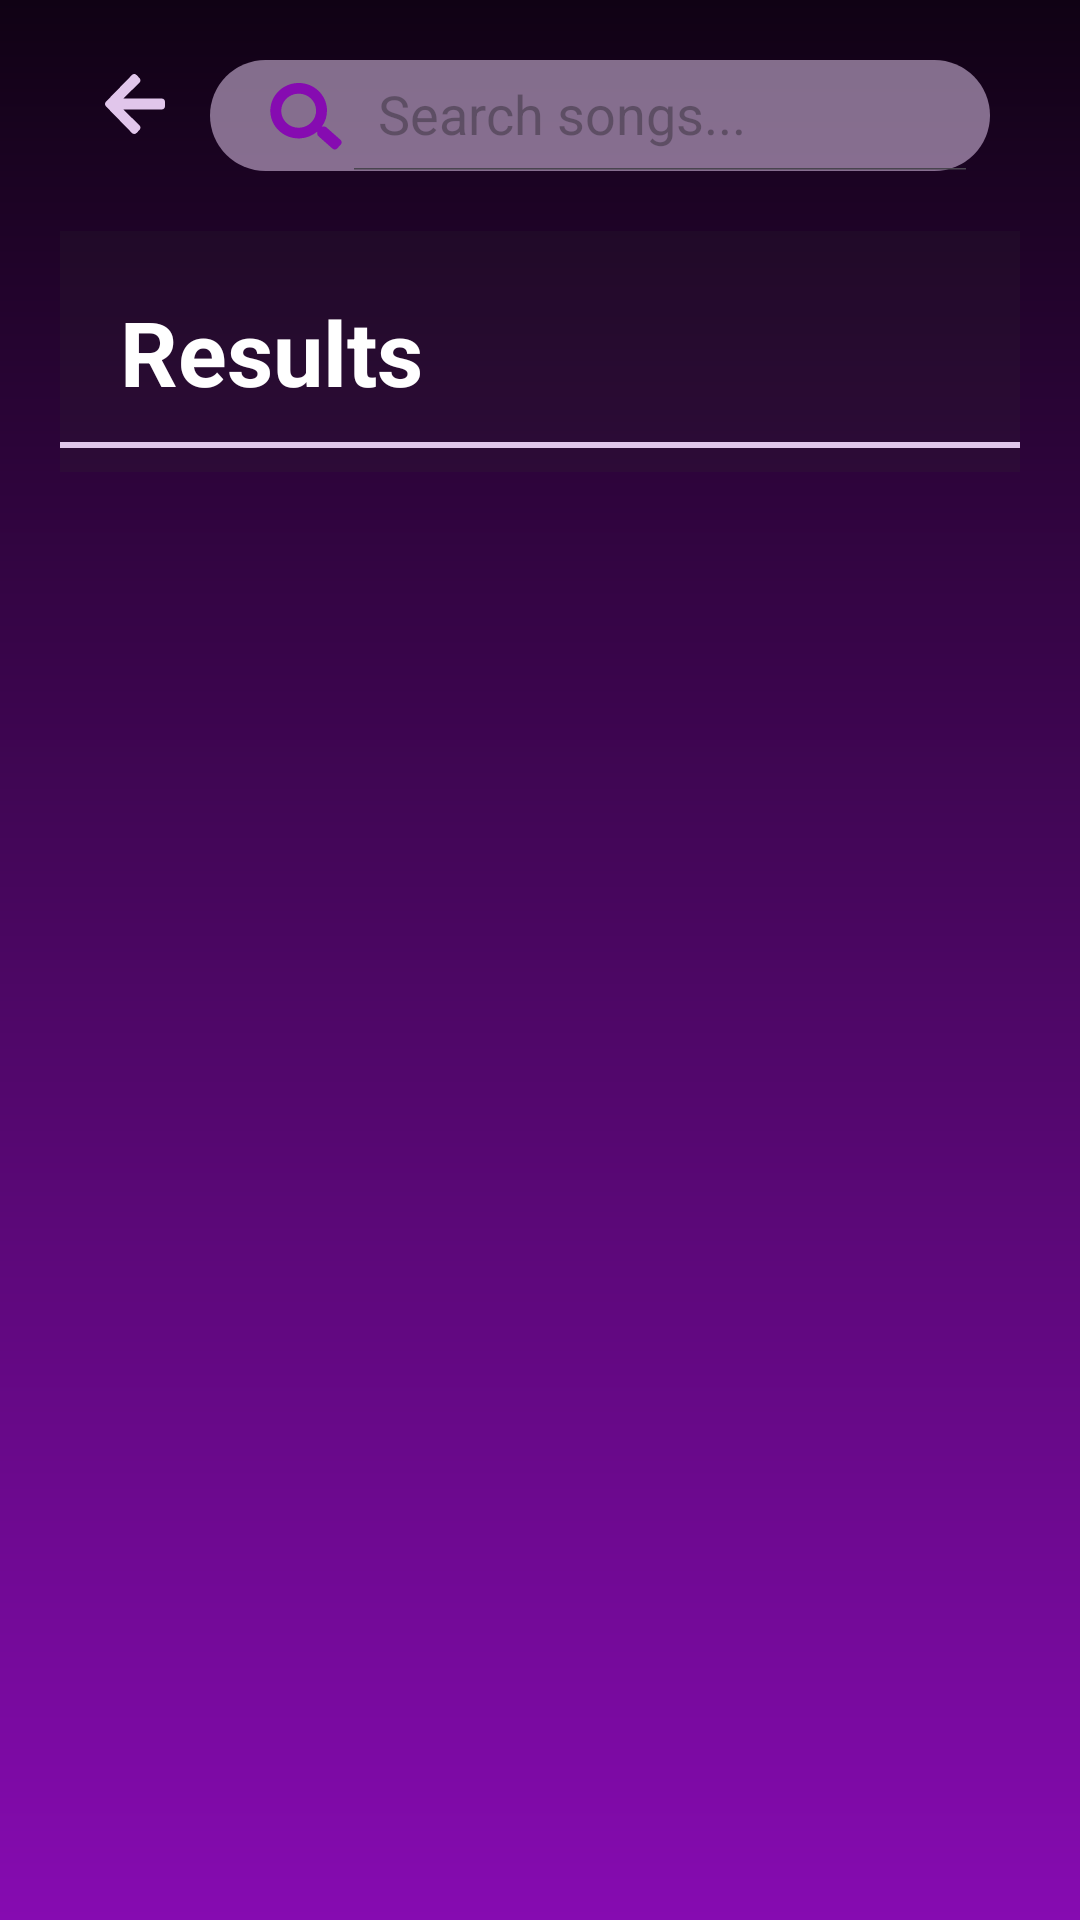

Point at icon controls on the screen. Image size 1080px×1920px, points as (x,y).
point leftarrow: (135,104)
